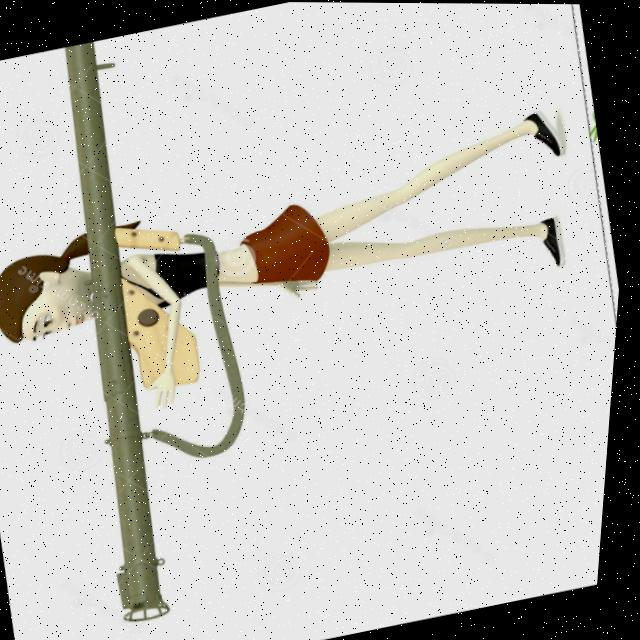rocket: (4, 37, 232, 628)
